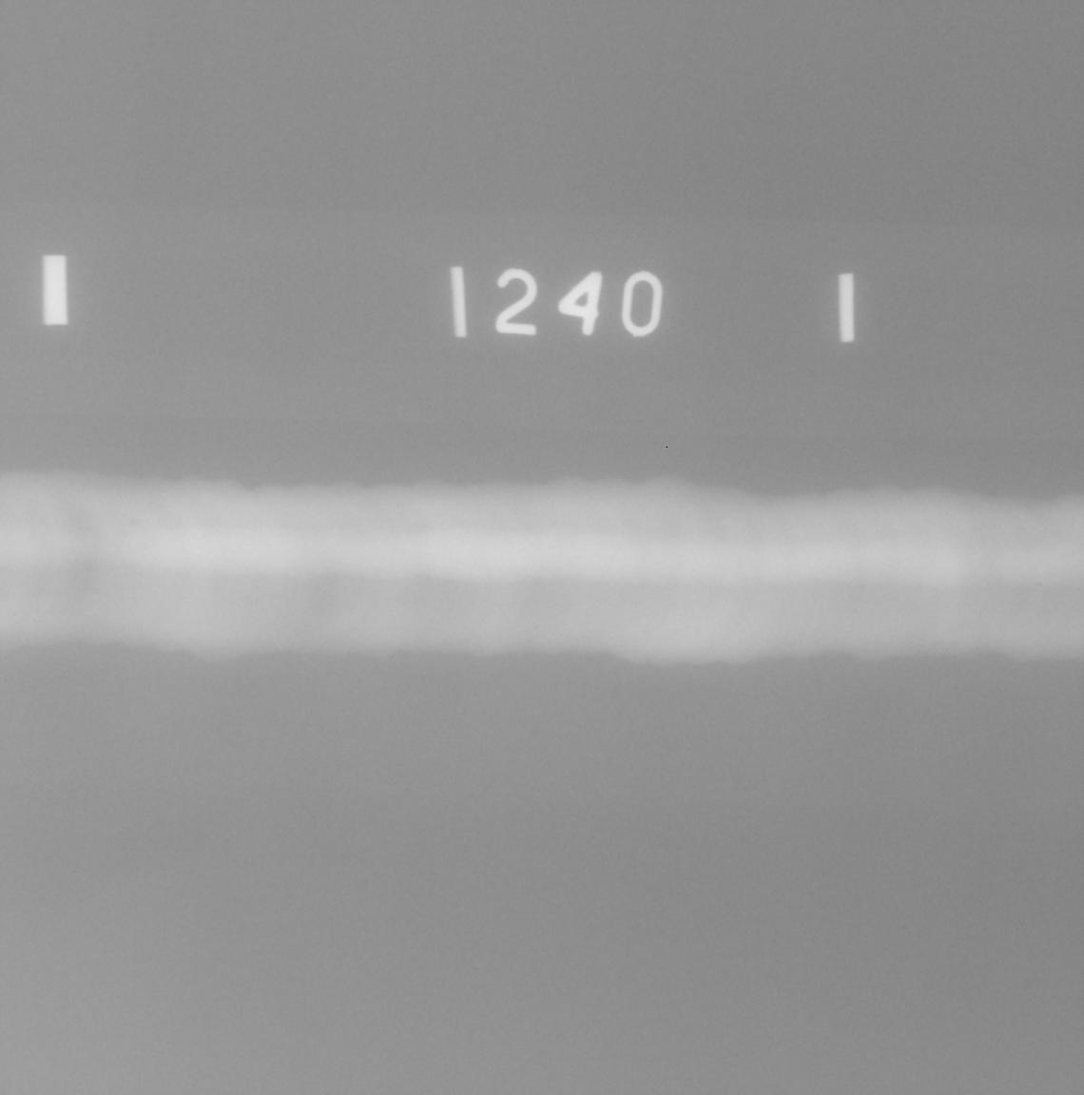Pore/Porosity: (130, 518, 138, 525), (1035, 581, 1043, 588)
